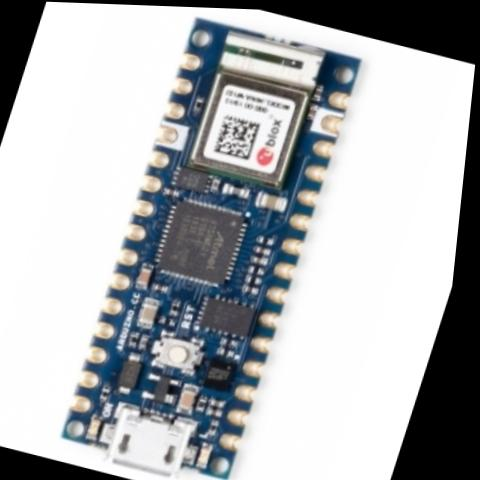Arduino-Nano: (15, 2, 423, 480)
